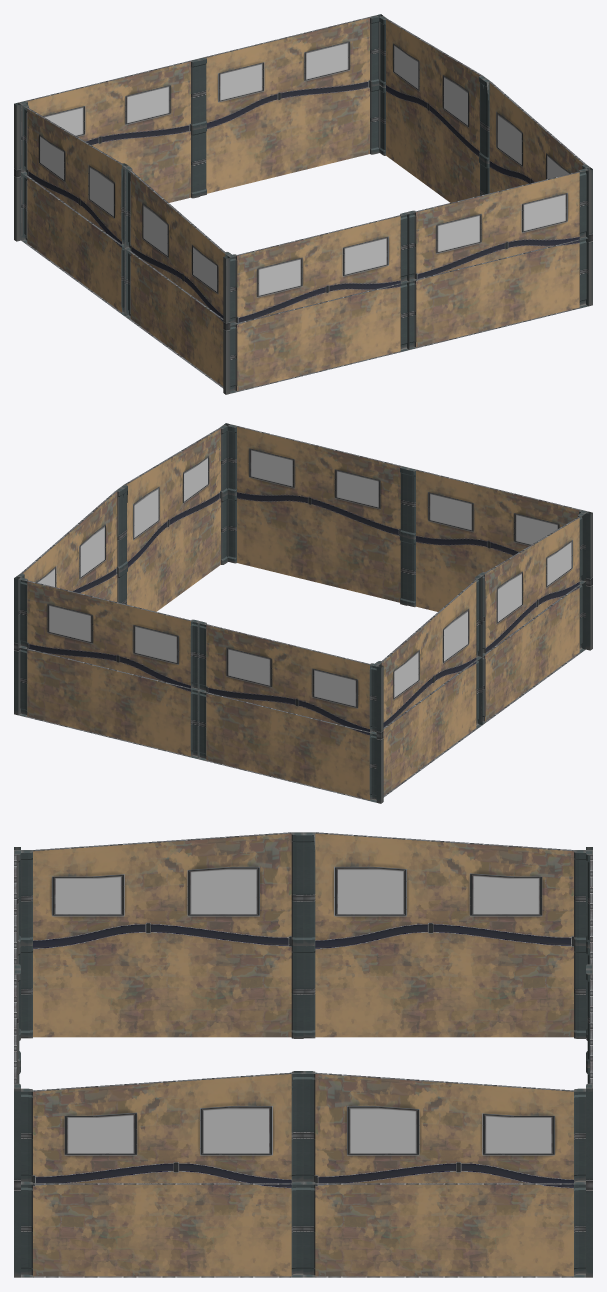
The model's file is Warehouse Walls.fbx.
3 renders of one model, top to bottom at view 1: azimuth 30°, elevation 25°; view 2: azimuth 150°, elevation 25°; view 3: azimuth 270°, elevation 25°, orthographic. The views are drawn at different scales.
Visible parts, largest first — view 1: New Wall_02.001, New Wall_01.001, New Wall_02.006, New Wall_02.008, New Wall_01.006, New Wall_01.008, New Wall_02.004, New Wall_02.003, New Wall_02.005, New Wall_02.002, New Wall_01.003, New Wall_01.002 (+7 smaller); view 2: New Wall_02.001, New Wall_02.004, New Wall_02.006, New Wall_01.004, New Wall_01.006, New Wall_01.001, New Wall_02.008, New Wall_02.002, New Wall_02.007, New Wall_02.003, New Wall_01.002, New Wall_01.003 (+7 smaller); view 3: New Wall_02.002, New Wall_02.003, New Wall_02.005, New Wall_02.007, New Wall_01.005, New Wall_01.007, New Wall_01.002, New Wall_01.003, New Wall Connection.002, New Wall Connection, New Wall_02.001, New Wall_02.006 (+2 smaller).
Part boxes in pixels (box(x1,y1,x2,y2)): New Wall_02.001: box(407, 168, 588, 281); New Wall_01.001: box(407, 238, 588, 349); New Wall_02.006: box(198, 15, 379, 128); New Wall_02.008: box(228, 212, 408, 324); New Wall_01.006: box(199, 85, 379, 196); New Wall_01.008: box(230, 281, 408, 393); New Wall_02.004: box(18, 59, 199, 151); New Wall_02.003: box(21, 103, 128, 247); New Wall_02.005: box(379, 16, 486, 160); New Wall_02.002: box(124, 166, 231, 319); New Wall_01.003: box(21, 172, 128, 316); New Wall_01.002: box(124, 247, 223, 388); New Wall_02.001: box(227, 424, 408, 537); New Wall_02.004: box(197, 621, 379, 734); New Wall_02.006: box(18, 577, 199, 690); New Wall_01.004: box(197, 691, 376, 802); New Wall_01.006: box(19, 645, 199, 758); New Wall_01.001: box(227, 494, 407, 605); New Wall_02.008: box(407, 468, 587, 581); New Wall_02.002: box(478, 512, 585, 656); New Wall_02.007: box(120, 425, 227, 569); New Wall_02.003: box(375, 575, 481, 728); New Wall_01.002: box(478, 581, 585, 724); New Wall_01.003: box(383, 657, 482, 797); New Wall_02.002: box(21, 832, 303, 945); New Wall_02.003: box(303, 832, 585, 945); New Wall_02.005: box(303, 1071, 585, 1184); New Wall_02.007: box(21, 1071, 303, 1184); New Wall_01.005: box(303, 1181, 585, 1277); New Wall_01.007: box(21, 1181, 303, 1277); New Wall_01.002: box(21, 944, 303, 1038); New Wall_01.003: box(303, 944, 585, 1038); New Wall Connection.002: box(586, 1088, 592, 1277); New Wall Connection: box(14, 1088, 20, 1277); New Wall_02.001: box(14, 969, 20, 1091); New Wall_02.006: box(586, 969, 592, 1091).
Size of the model in its own units: 3844 by 1492 by 3844.
